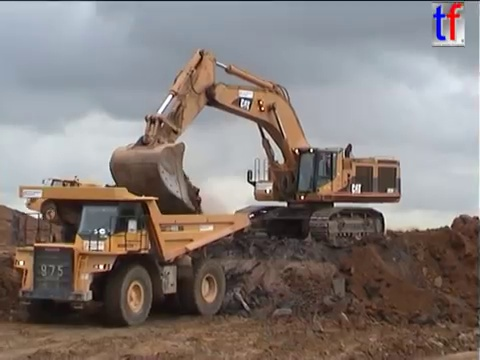excavator: (106, 45, 404, 250)
truck: (9, 182, 253, 329), (38, 173, 173, 231)
